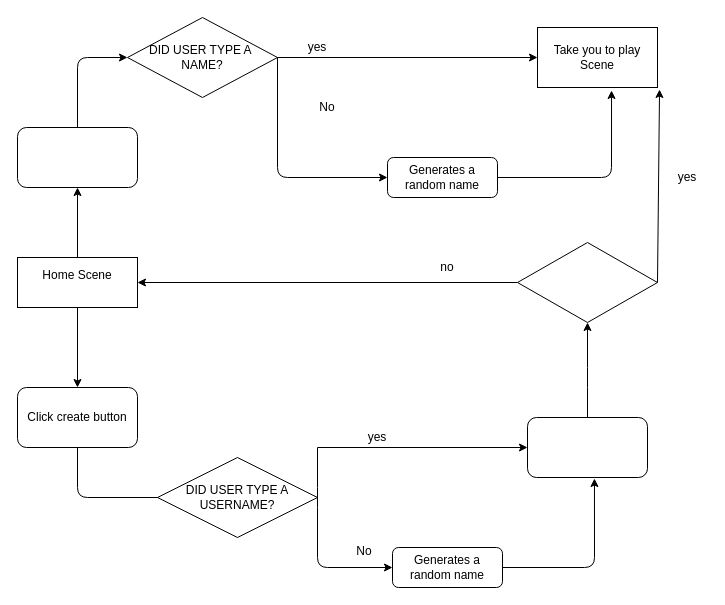
This 725x605 diagram has some shape labels left out. The centre of each missing label's shape, as x and y in pixels:
ACCEPT ?: the point at 587,282
Click play button: the point at 77,157
config the room settings.: the point at 587,447
